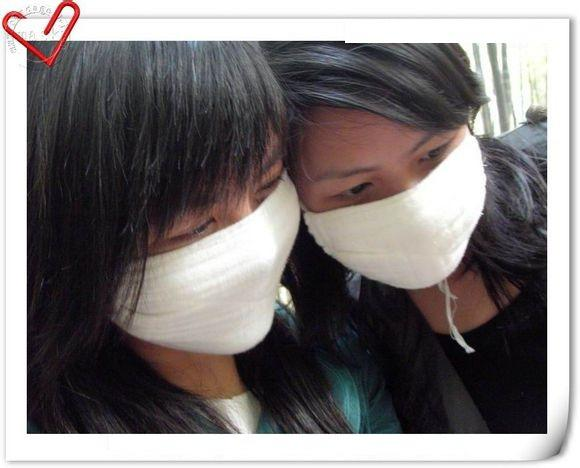OK: (104, 123, 318, 337), (307, 129, 482, 292)
